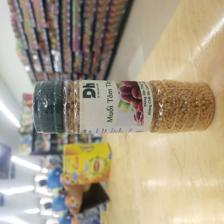TayNinh_green: (32, 78, 218, 134)
